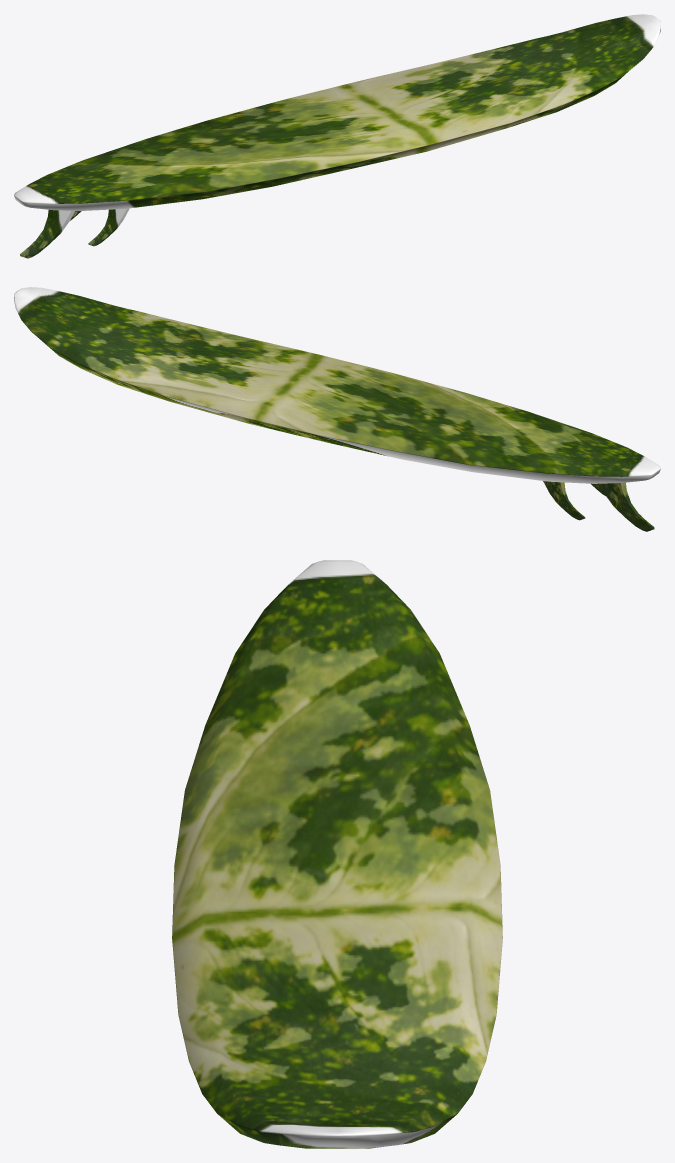
Rendered from uploads_files_3133689_Surfboard (1).fbx.
3 views of the same model, one above another, from view 1: azimuth 30°, elevation 25°; view 2: azimuth 150°, elevation 25°; view 3: azimuth 270°, elevation 25° (orthographic). The views are drawn at different scales.
Parts seen in each view (by area): view 1: SURF; view 2: SURF; view 3: SURF.
Part boxes in pixels (x1=…): SURF: x1=14, y1=14, x2=660, y2=258; SURF: x1=14, y1=287, x2=660, y2=531; SURF: x1=172, y1=560, x2=502, y2=1148.
Bounding box in the file's own units: 12268 × 1606 × 2748.
